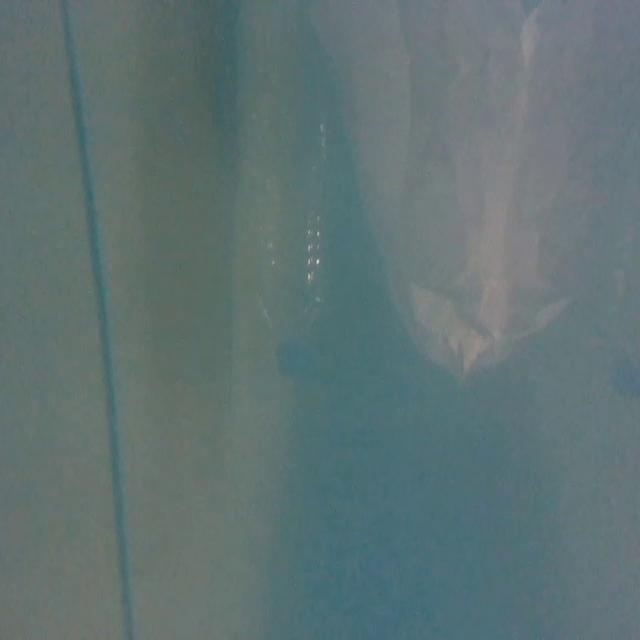plastic bags: (333, 0, 626, 380)
plastic bottle: (249, 92, 329, 384)
